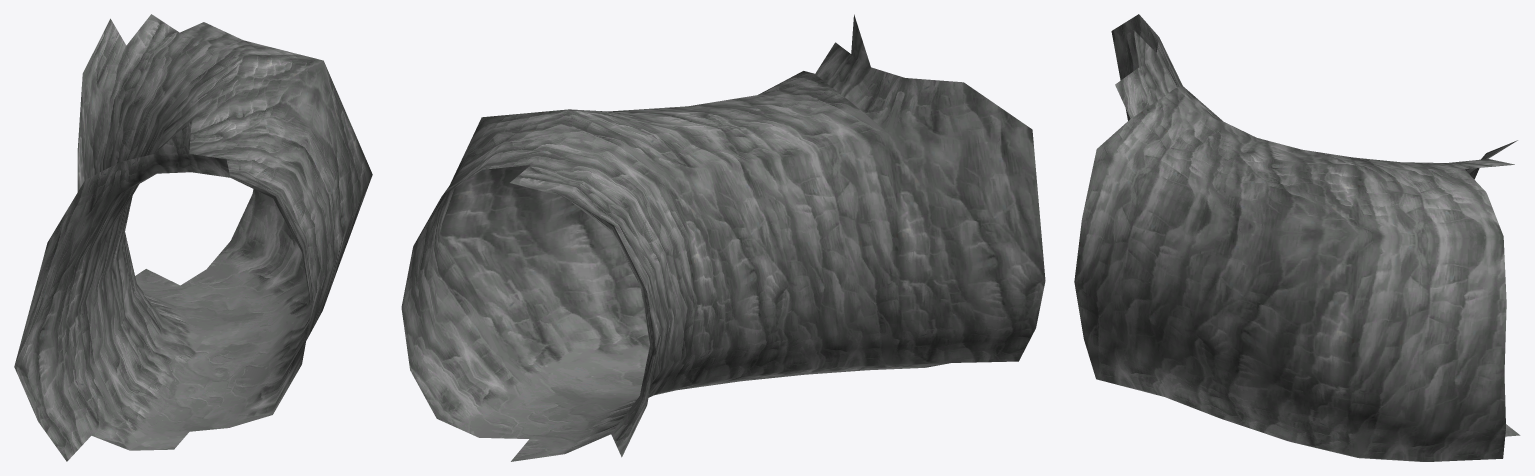
The model's file is SWORDLIGHT20_PS-AREA02-03TRANS_03.fbx.
3 views of the same model, side by side, from view 1: azimuth 30°, elevation 25°; view 2: azimuth 150°, elevation 25°; view 3: azimuth 270°, elevation 25° (orthographic). The views are drawn at different scales.
Visible parts, largest first — view 1: SWORDLIGHT20_PS-AREA02-03TRANS_03; view 2: SWORDLIGHT20_PS-AREA02-03TRANS_03; view 3: SWORDLIGHT20_PS-AREA02-03TRANS_03.
Boxes of the visible parts, x1,y1,x2,y2 form: SWORDLIGHT20_PS-AREA02-03TRANS_03: [14, 14, 372, 461]; SWORDLIGHT20_PS-AREA02-03TRANS_03: [401, 14, 1045, 461]; SWORDLIGHT20_PS-AREA02-03TRANS_03: [1074, 14, 1520, 461].
Bounding box in the file's own units: 203836 × 133992 × 161094.
3 materials, 3 textured.
